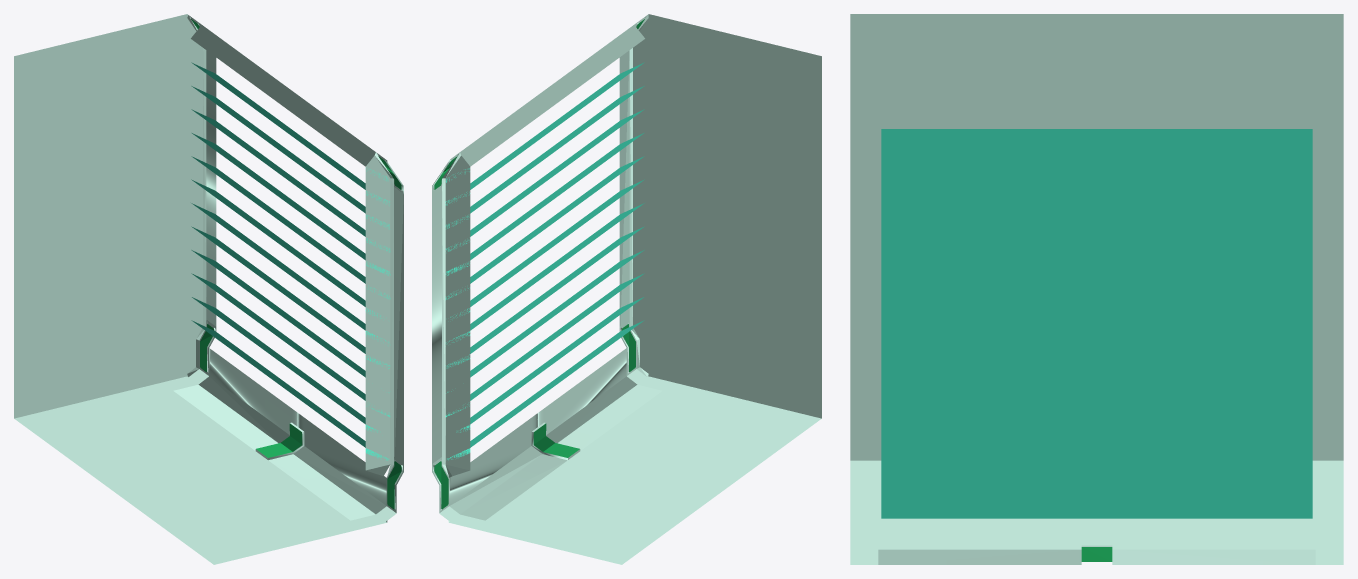
The model's file is uee_stanton_kit_ext_wall_4x8x8_06_reg.glb.
The picture shows the model from 3 angles, left to right: view 1: azimuth 30°, elevation 25°; view 2: azimuth 150°, elevation 25°; view 3: azimuth 270°, elevation 25°; orthographic projection. The views are drawn at different scales.
Size of the model in its own units: 4.41 by 8 by 8.
